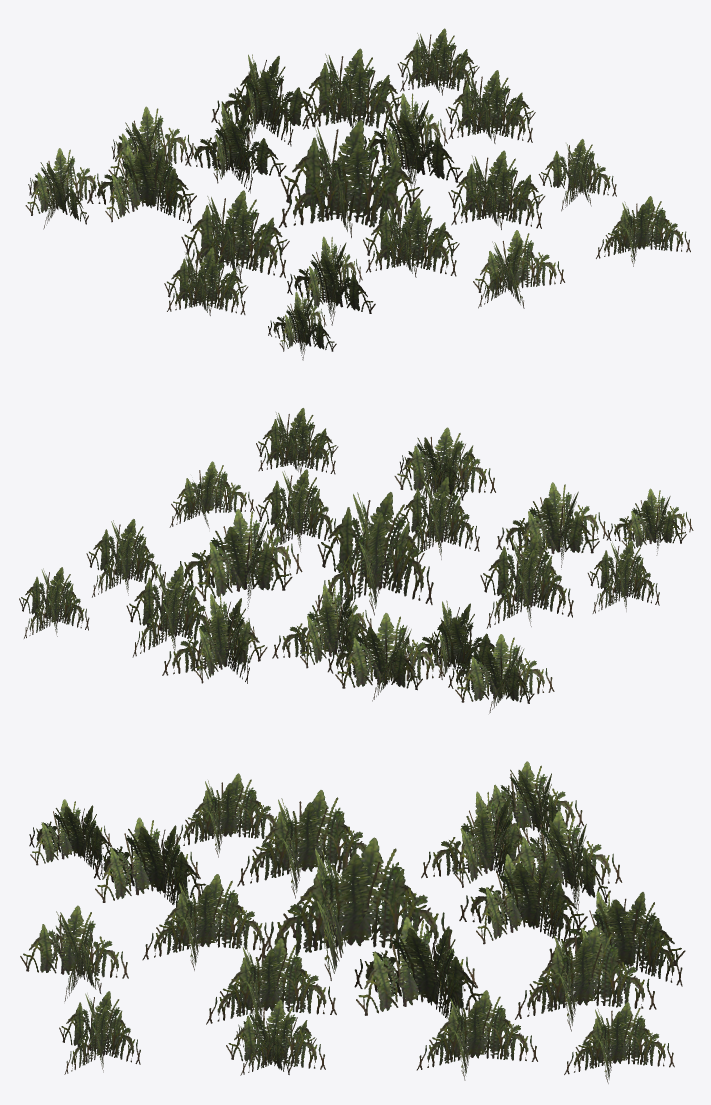
The model's file is grass3.obj.
The picture shows the model from 3 angles, top to bottom: view 1: azimuth 30°, elevation 25°; view 2: azimuth 150°, elevation 25°; view 3: azimuth 270°, elevation 25°; orthographic projection. The views are drawn at different scales.
Parts seen in each view (by area): view 1: Object002, Object005, Object035, Object026, Object016, Object046, Object029, Object038, Object034, Object017, Object028, Object012 (+32 smaller); view 2: Object005, Object004, Object015, Object014, Object047, Object037, Object045, Object011, Object041, Object028, Object021, Object033 (+32 smaller); view 3: Object002, Object004, Object027, Object014, Object035, Object013, Object016, Object026, Object036, Object030, Object039, Object032 (+39 smaller).
Part boxes in pixels (x1,y1,x2,y2): Object002: [280, 119, 411, 236]; Object005: [278, 143, 423, 227]; Object035: [181, 190, 285, 278]; Object026: [302, 48, 400, 130]; Object016: [363, 112, 462, 182]; Object046: [211, 71, 321, 126]; Object029: [363, 198, 456, 276]; Object038: [448, 150, 541, 228]; Object034: [185, 120, 286, 176]; Object017: [87, 152, 196, 207]; Object028: [303, 65, 401, 129]; Object012: [473, 230, 565, 292]; Object005: [317, 492, 433, 604]; Object004: [315, 512, 424, 615]; Object015: [173, 526, 292, 590]; Object014: [195, 509, 302, 601]; Object047: [335, 613, 444, 688]; Object037: [480, 533, 573, 617]; Object045: [162, 610, 267, 675]; Object011: [394, 427, 495, 493]; Object041: [455, 634, 554, 702]; Object028: [126, 565, 212, 642]; Object021: [496, 498, 599, 553]; Object033: [272, 600, 370, 658]; Object002: [258, 853, 430, 961]; Object004: [283, 837, 452, 954]; Object027: [529, 926, 656, 1009]; Object014: [354, 928, 482, 1009]; Object035: [237, 802, 362, 886]; Object013: [20, 905, 128, 978]; Object016: [356, 917, 477, 1015]; Object026: [515, 938, 635, 1019]; Object036: [252, 790, 382, 873]; Object030: [156, 874, 272, 950]; Object039: [220, 938, 336, 1014]; Object032: [459, 863, 587, 930].
Size of the model in its own units: 2797 by 505 by 2888.
